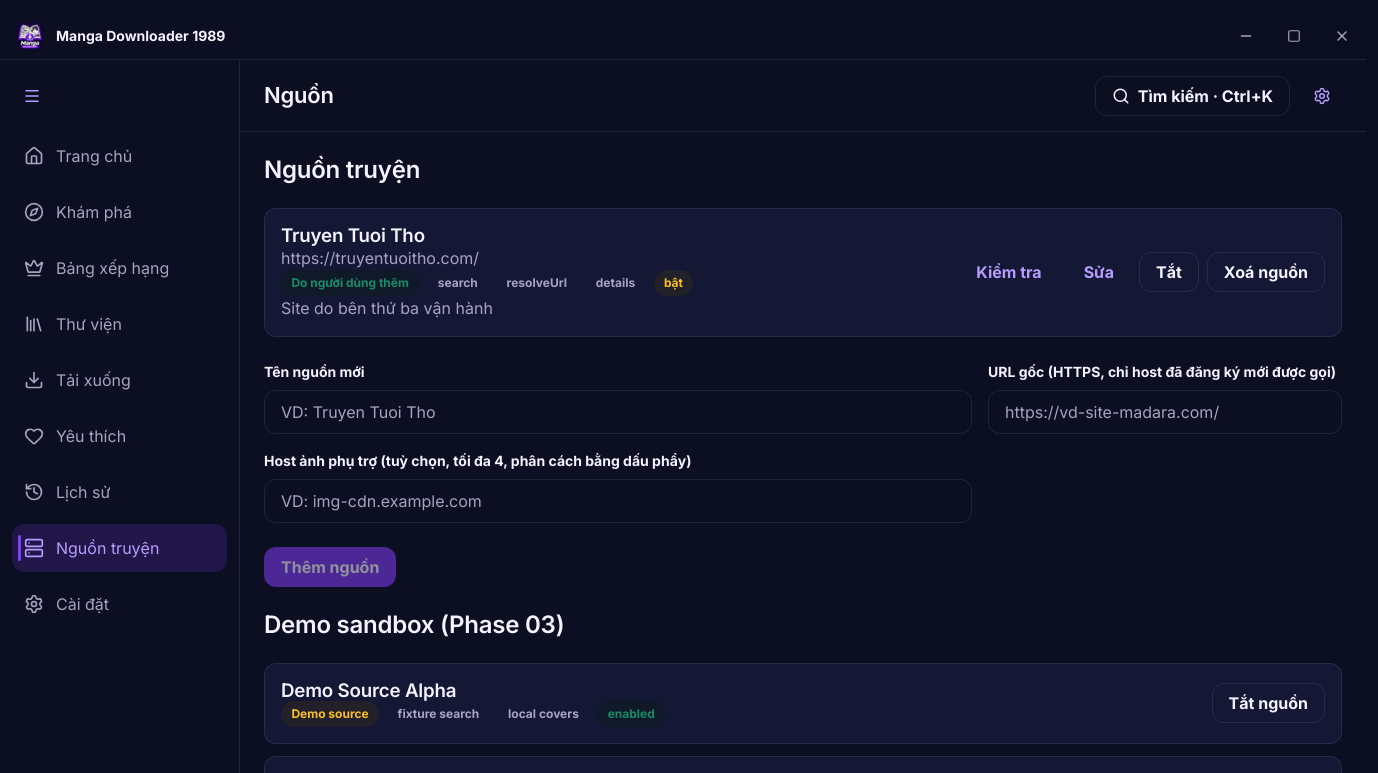
Test: T05 sources management › adds a user-registered source through IPC and refetches the registry
Type "VD Site" into the field labelled "Tên nguồn mới". click: (618, 412)
box: 264,390 -> 972,434
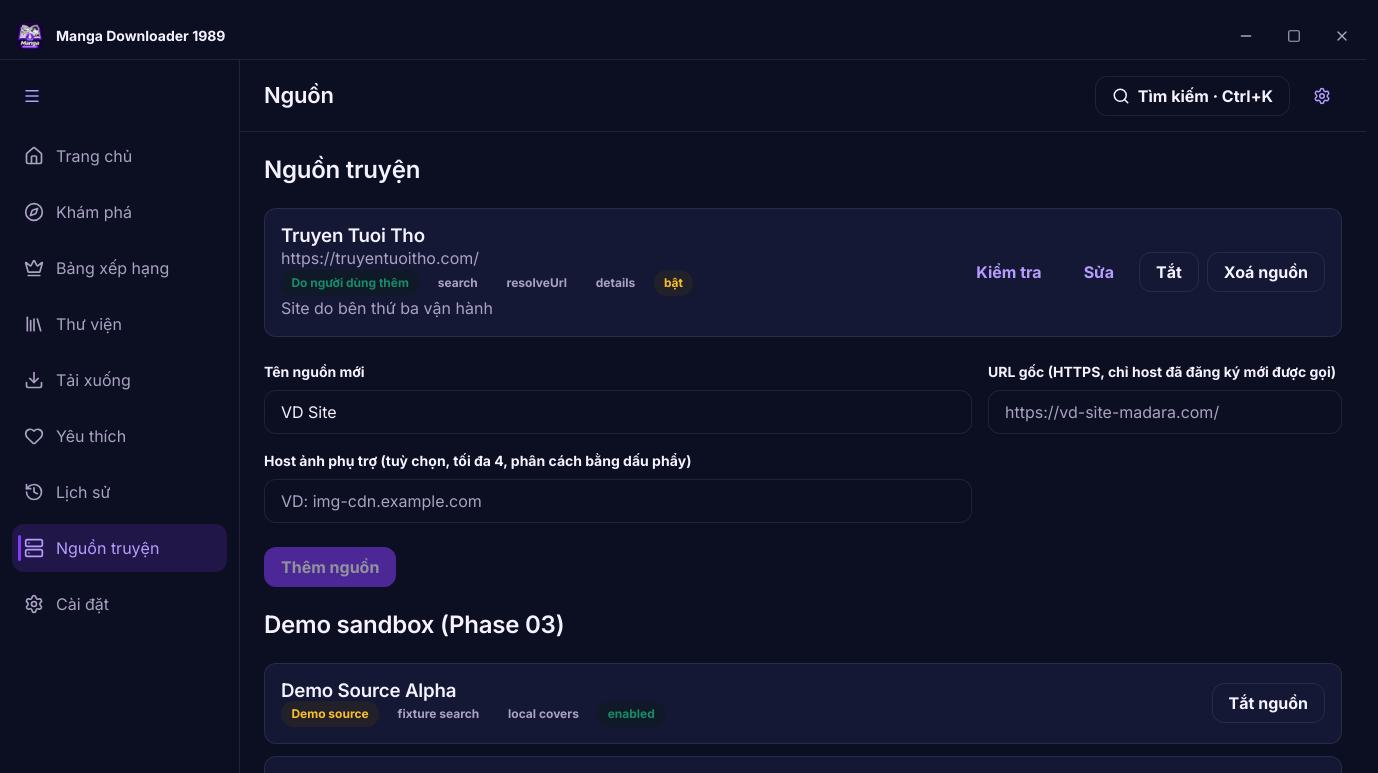
Type "https://vd-site.com/" into the field labelled "URL gốc (HTTPS, chỉ host đã đăng ký mới được gọi)". click: (1165, 412)
box: 988,390 -> 1342,434
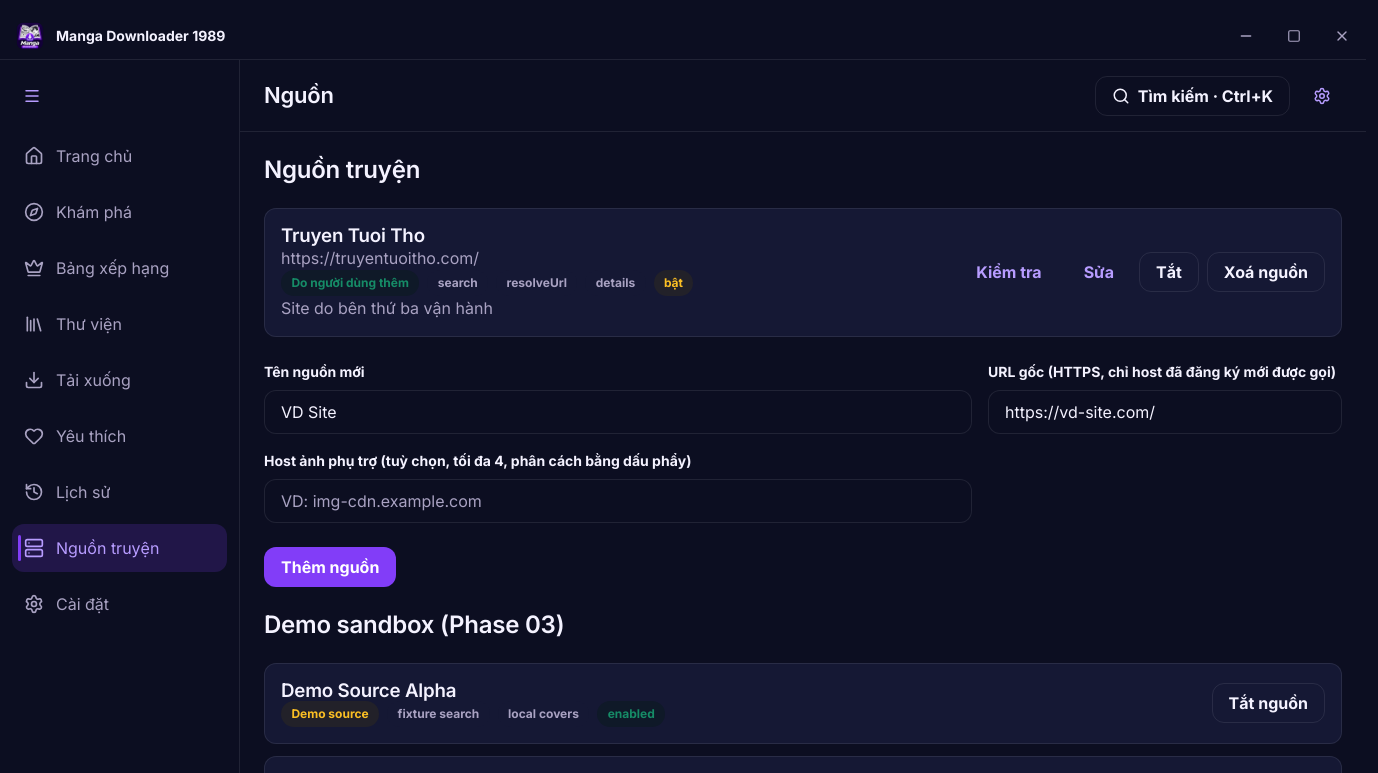
Click the button "Thêm nguồn". click: (330, 567)
box: 264,547 -> 396,587
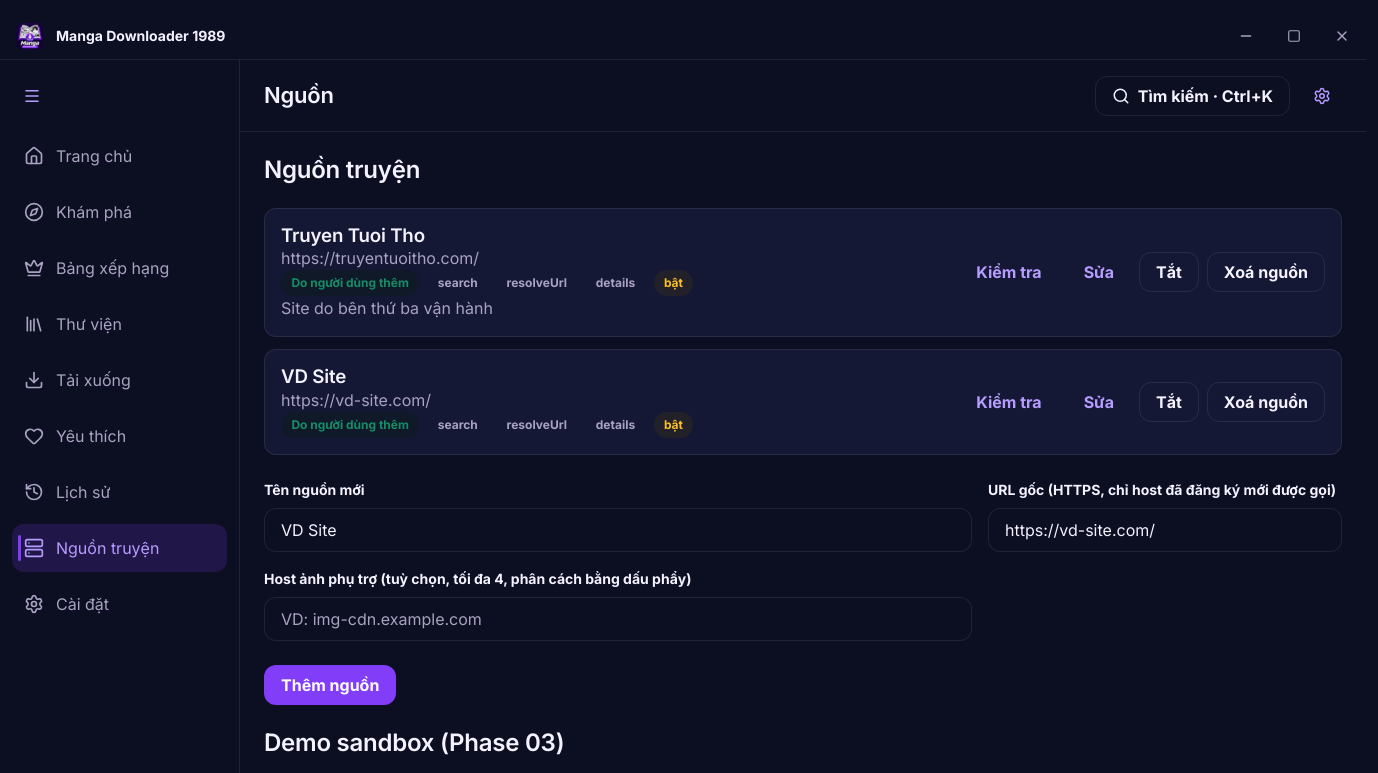
Expected: the heading "VD Site" is shown, 281,365 -> 346,388
